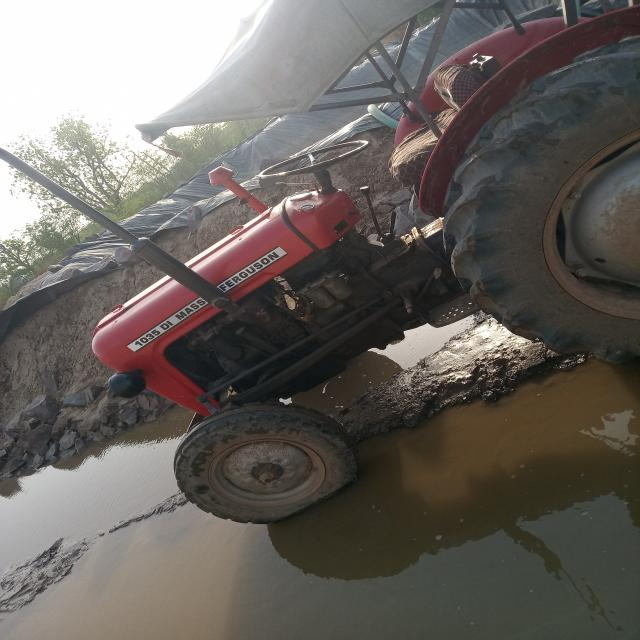Tractor: (30, 6, 640, 553)
